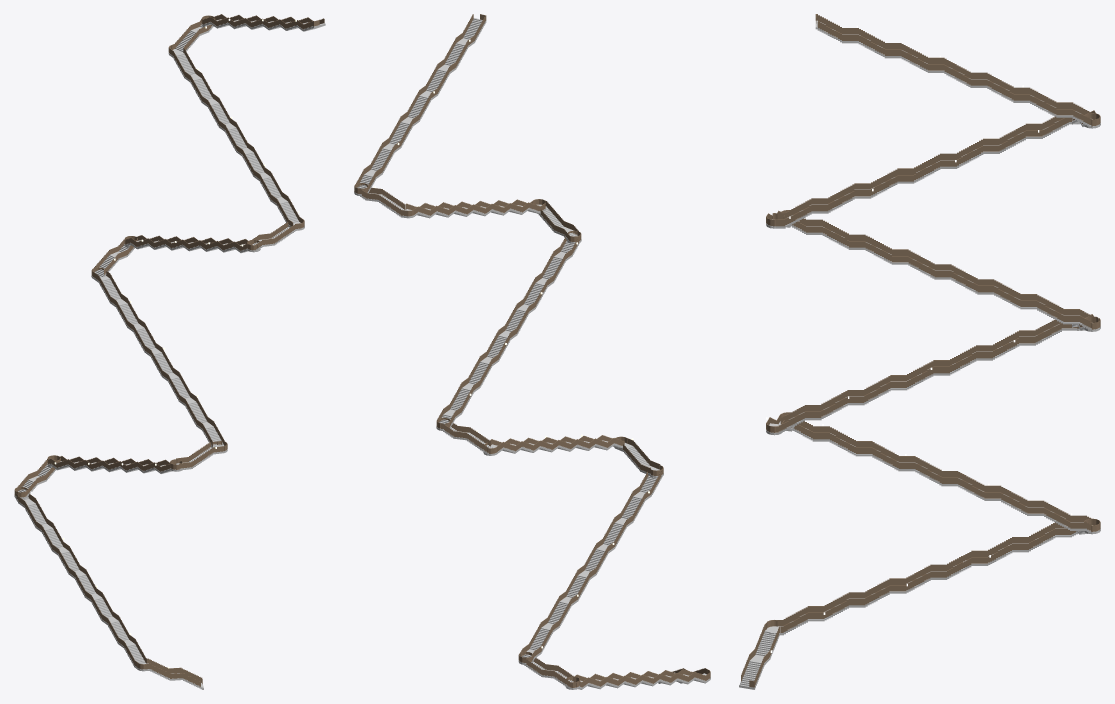
3 views of the same model, side by side, from view 1: azimuth 30°, elevation 25°; view 2: azimuth 150°, elevation 25°; view 3: azimuth 270°, elevation 25° (orthographic). The views are drawn at different scales.
Visible parts, largest first — view 1: c_terrace_path_rail_rail, c_terrace_path_stair_wood; view 2: c_terrace_path_rail_rail, c_terrace_path_stair_wood; view 3: c_terrace_path_rail_rail, c_terrace_path_stair_wood.
Boxes of the visible parts, <box> form: c_terrace_path_rail_rail: <box>14,14,324,686</box>; c_terrace_path_stair_wood: <box>14,19,325,689</box>; c_terrace_path_rail_rail: <box>354,14,710,687</box>; c_terrace_path_stair_wood: <box>354,18,710,689</box>; c_terrace_path_rail_rail: <box>741,14,1100,687</box>; c_terrace_path_stair_wood: <box>739,20,1100,689</box>.
Size of the model in its own units: 42.5 by 121 by 52.37.
